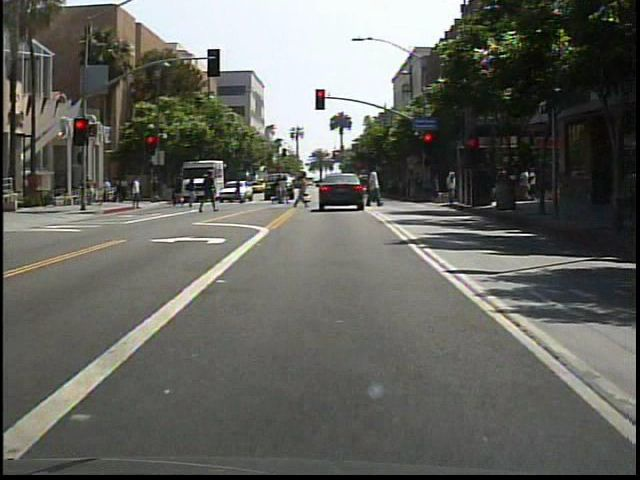person: (362, 163, 386, 212), (202, 168, 223, 217), (296, 173, 315, 211), (129, 174, 146, 212), (185, 174, 201, 211)
